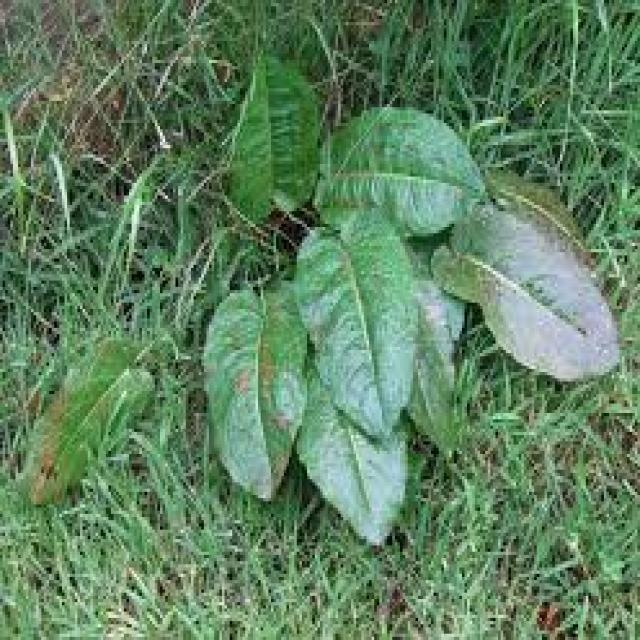organic waste: (41, 82, 620, 517)
